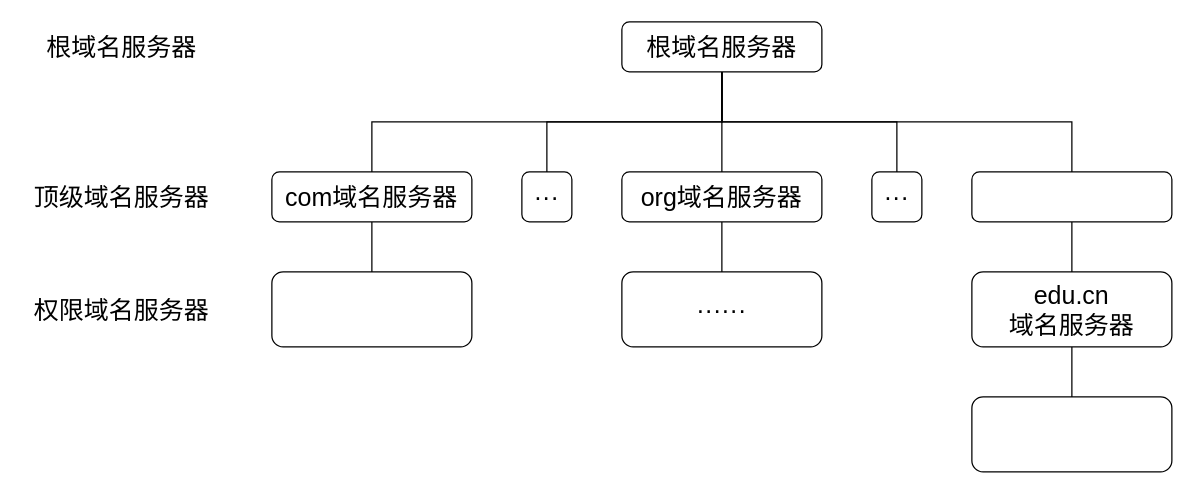
This 1194x494 diagram has some shape labels left out. The shapes that lost their labels are listed below. From the top down, each one's box as (x1, y1, x2, y2) in pixels, then its label:
(971, 171, 1172, 222): cn域名服务器
(271, 271, 472, 347): cskaoyan.com 域名服务器
(971, 396, 1172, 472): hust.edu.cn 域名服务器
